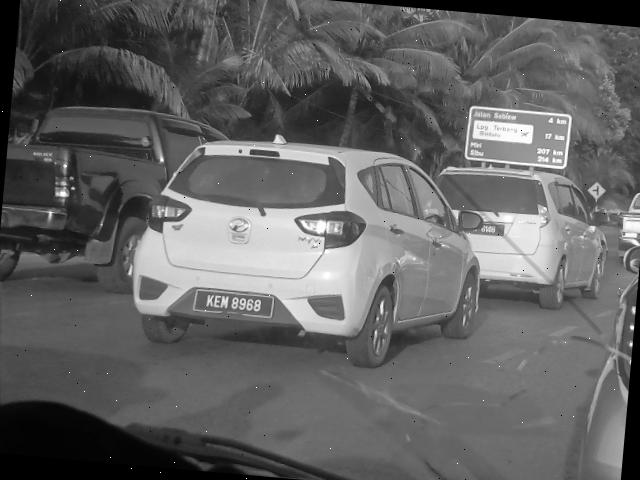License_Plate: (194, 289, 274, 320)
car: (126, 122, 491, 374), (408, 144, 621, 316)
